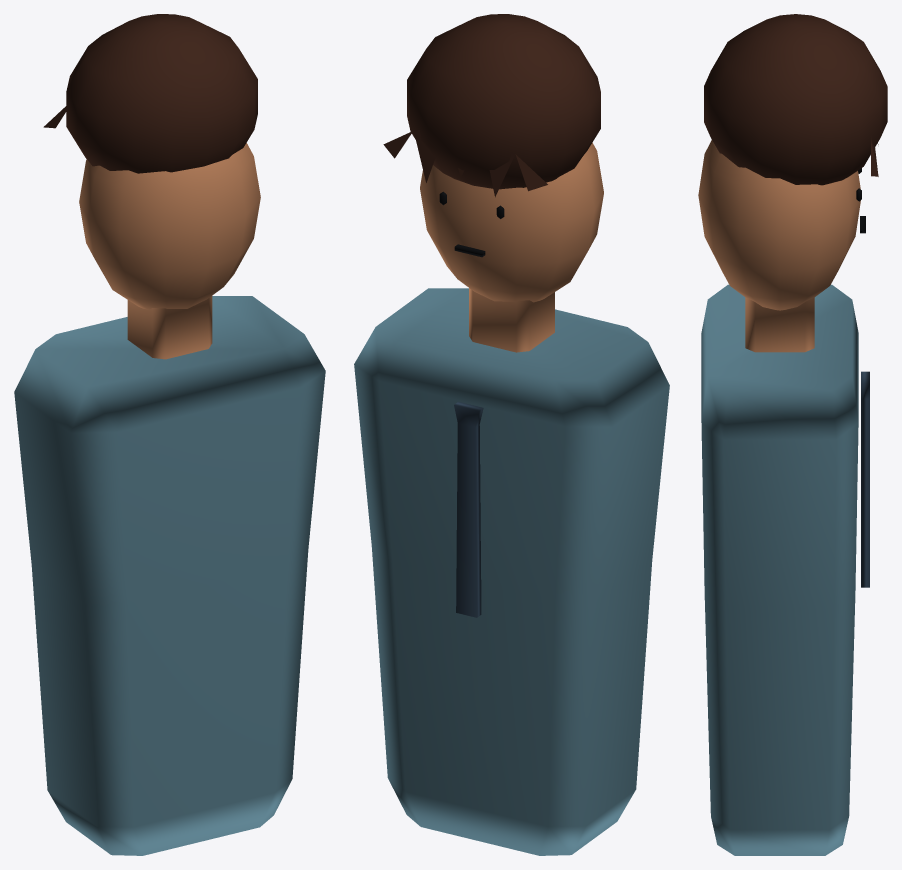
The model's file is MiiCharacter.obj.
3 renders of one model, left to right at view 1: azimuth 30°, elevation 25°; view 2: azimuth 150°, elevation 25°; view 3: azimuth 270°, elevation 25°, orthographic.
Parts seen in each view (by area): view 1: shirt, skin, hair; view 2: shirt, hair, skin, tie; view 3: shirt, hair, skin, tie.
Boxes of the visible parts, x1,y1,x2,y2 form: shirt: (14, 296, 325, 855); skin: (79, 143, 260, 359); hair: (43, 14, 257, 173); shirt: (354, 288, 669, 855); hair: (383, 14, 600, 197); skin: (420, 142, 603, 352); tie: (454, 402, 483, 617); shirt: (701, 284, 858, 855); hair: (704, 14, 887, 185); skin: (698, 140, 860, 352); tie: (861, 371, 869, 587).
Size of the model in its own units: 0.47 by 1.39 by 0.3012.
